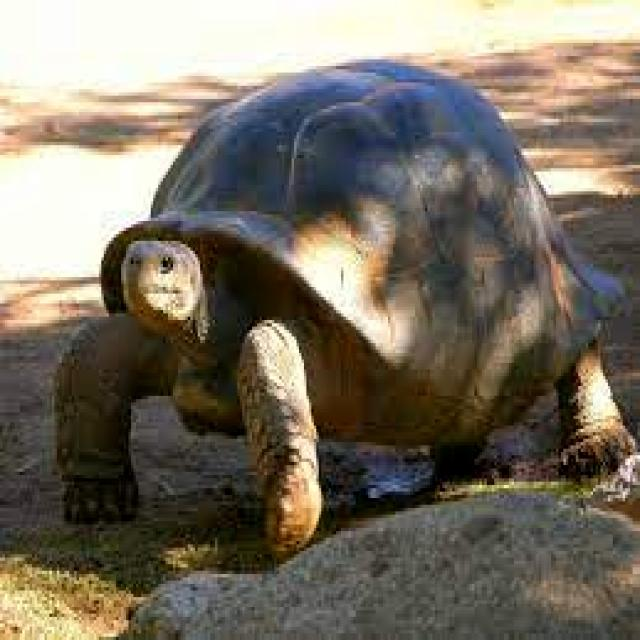Sea turtle: (54, 56, 640, 551)
